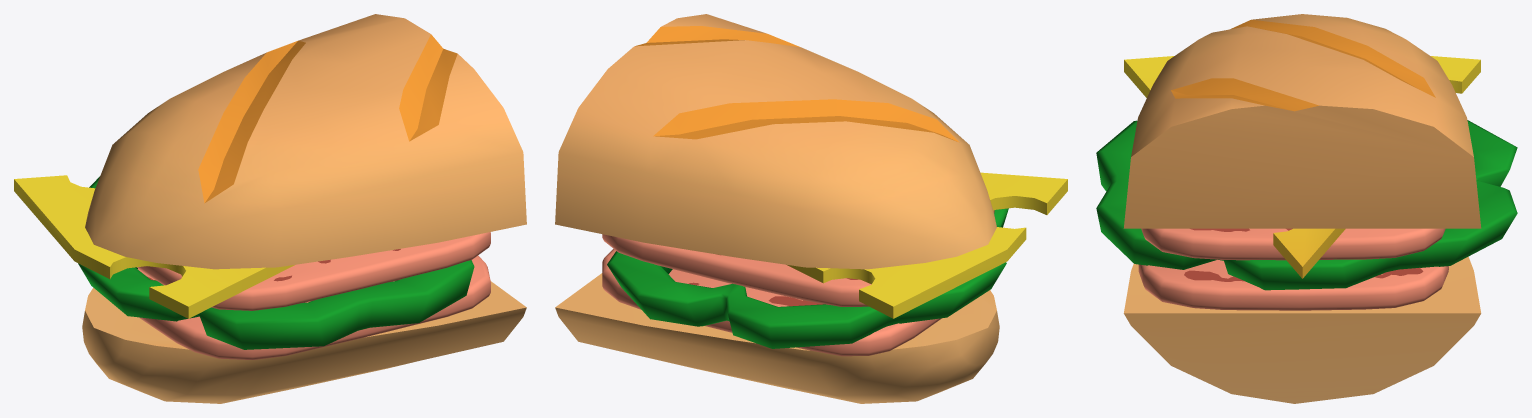
Rendered from Sandwich_half_01.fbx.
3 views of the same model, side by side, from view 1: azimuth 30°, elevation 25°; view 2: azimuth 150°, elevation 25°; view 3: azimuth 270°, elevation 25° (orthographic). The views are drawn at different scales.
Parts seen in each view (by area): view 1: Sandwich_half_01; view 2: Sandwich_half_01; view 3: Sandwich_half_01.
Part boxes in pixels (x1=…): Sandwich_half_01: x1=14, y1=14, x2=526, y2=403; Sandwich_half_01: x1=555, y1=14, x2=1067, y2=403; Sandwich_half_01: x1=1096, y1=14, x2=1517, y2=403.
Size of the model in its own units: 110 by 88.55 by 69.33.
